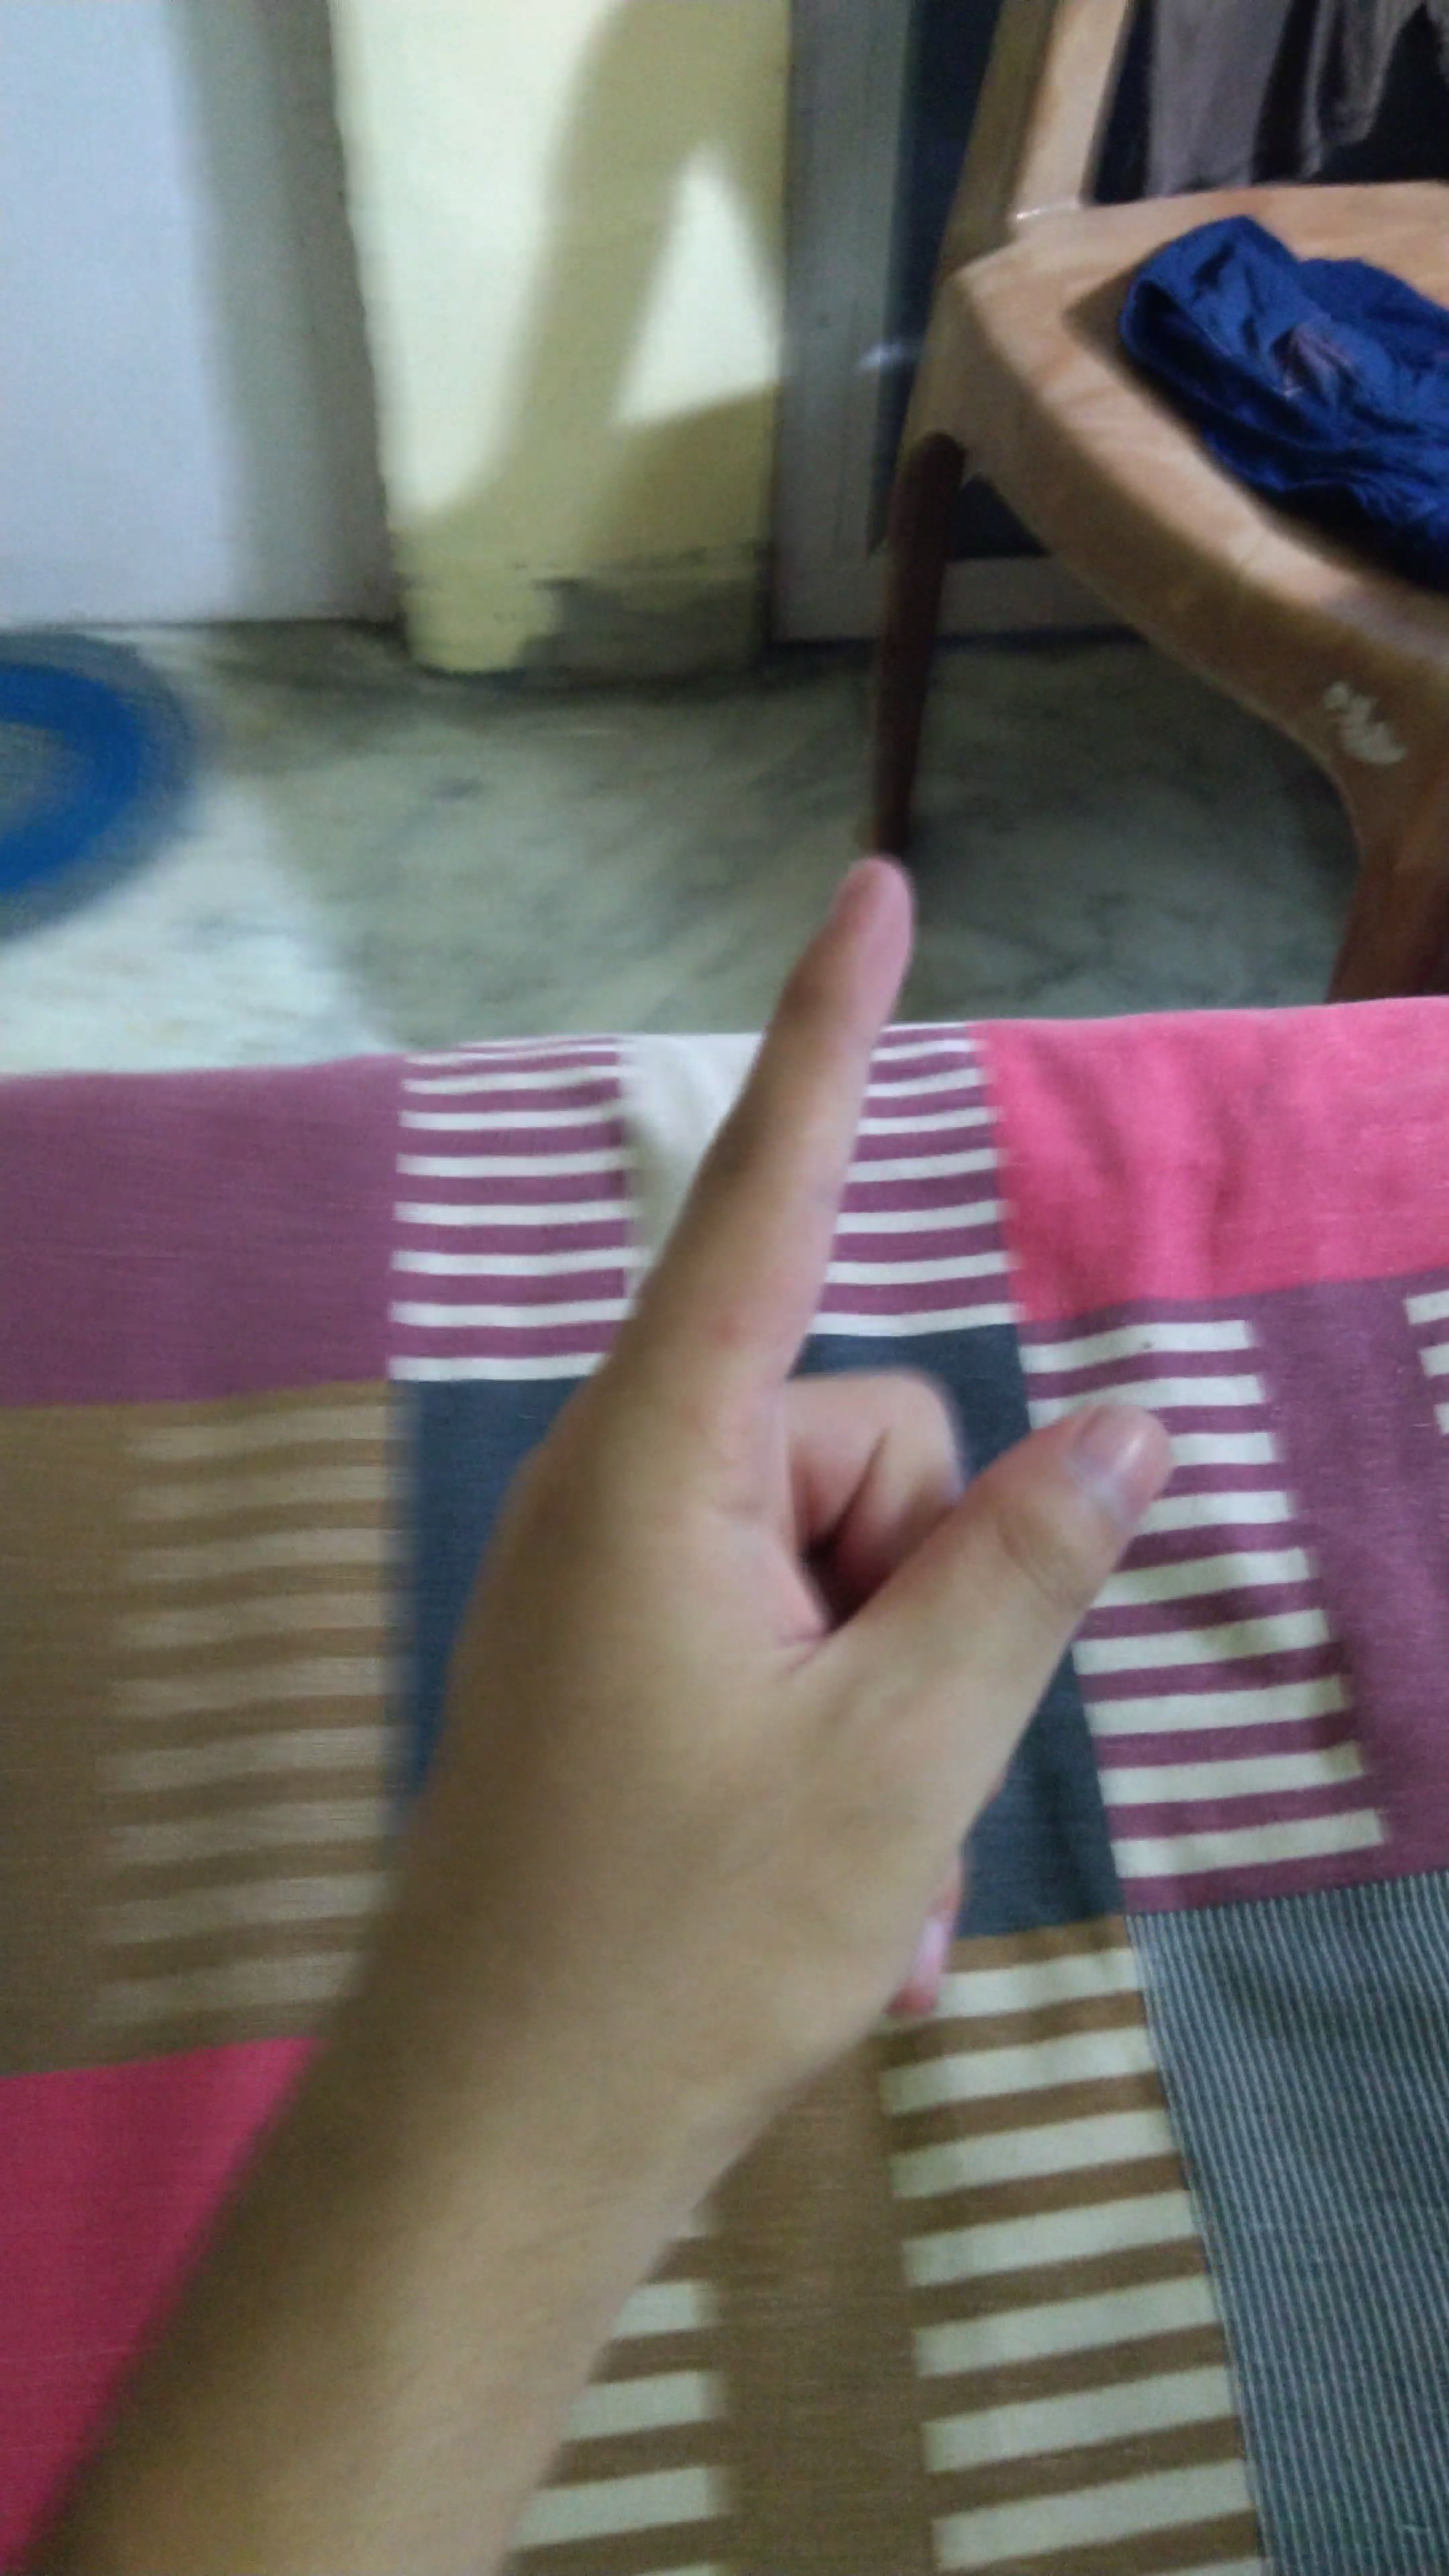hand: (368, 835, 1184, 2097)
